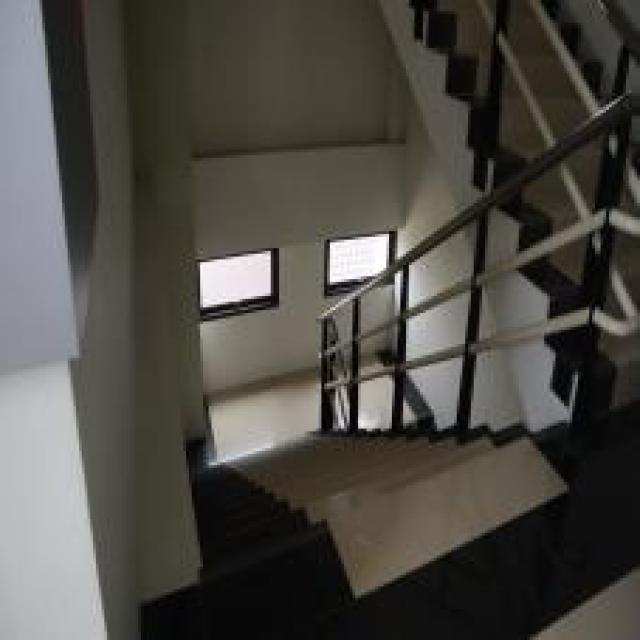downstair: (227, 461, 458, 613)
